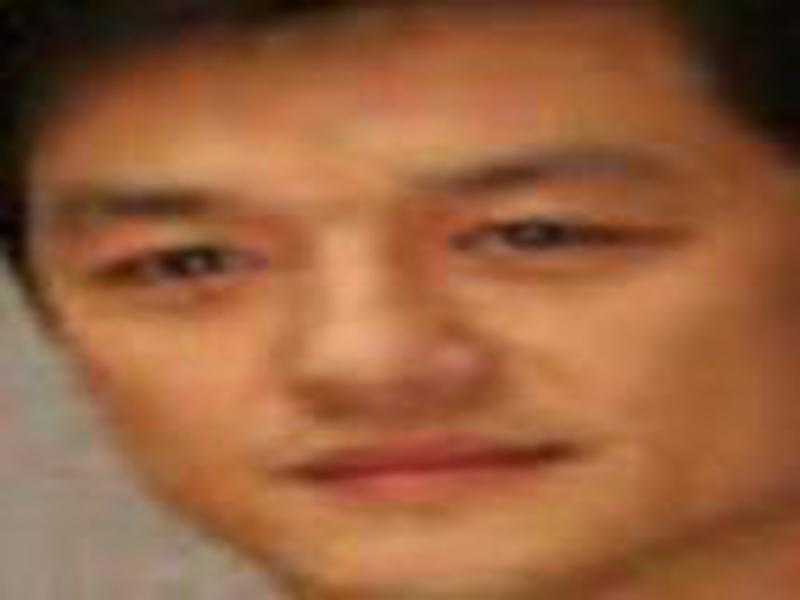without_mask: (23, 23, 782, 587)
